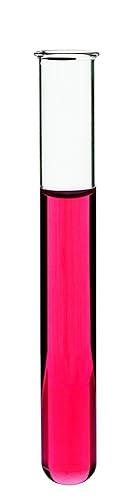Test tube: (20, 34, 114, 492)
